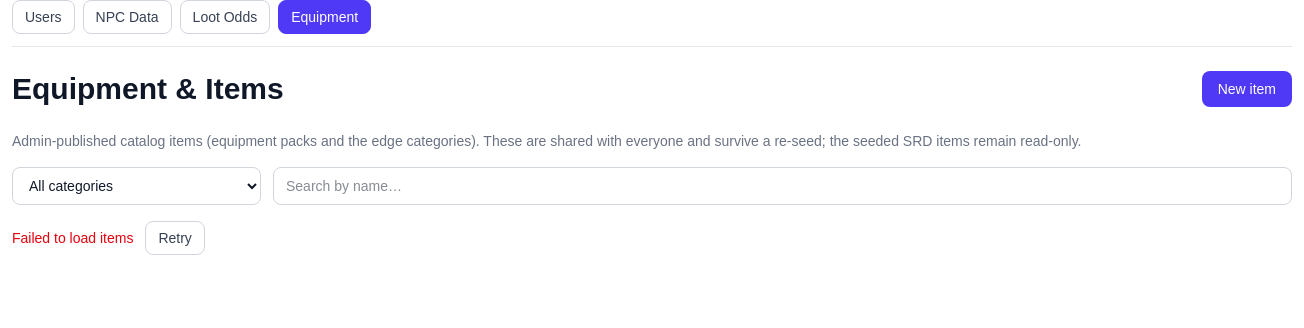
Test case: AdminEquipmentPage › shows a retryable error when the list fails to load
The image size is (1304, 328).
expect the message shows "Failed to load items": met, box [12,230,133,246]
What coordinates should you click on to do the following:
click the button "Retry"
I would click on:
 (175, 238)
Its box is [145,221,205,255].
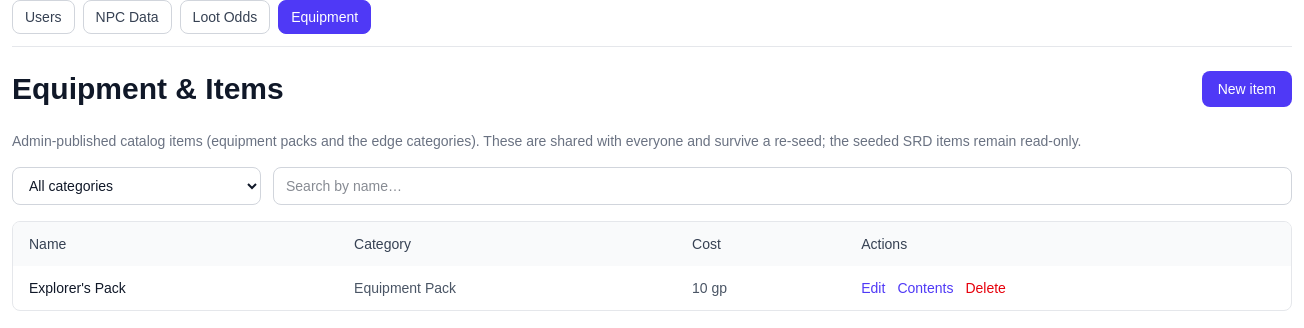
expect the text "Explorer's Pack" is shown: met, box [13,266,338,310]
expect the message "Failed to load items Retry" is gone: met
